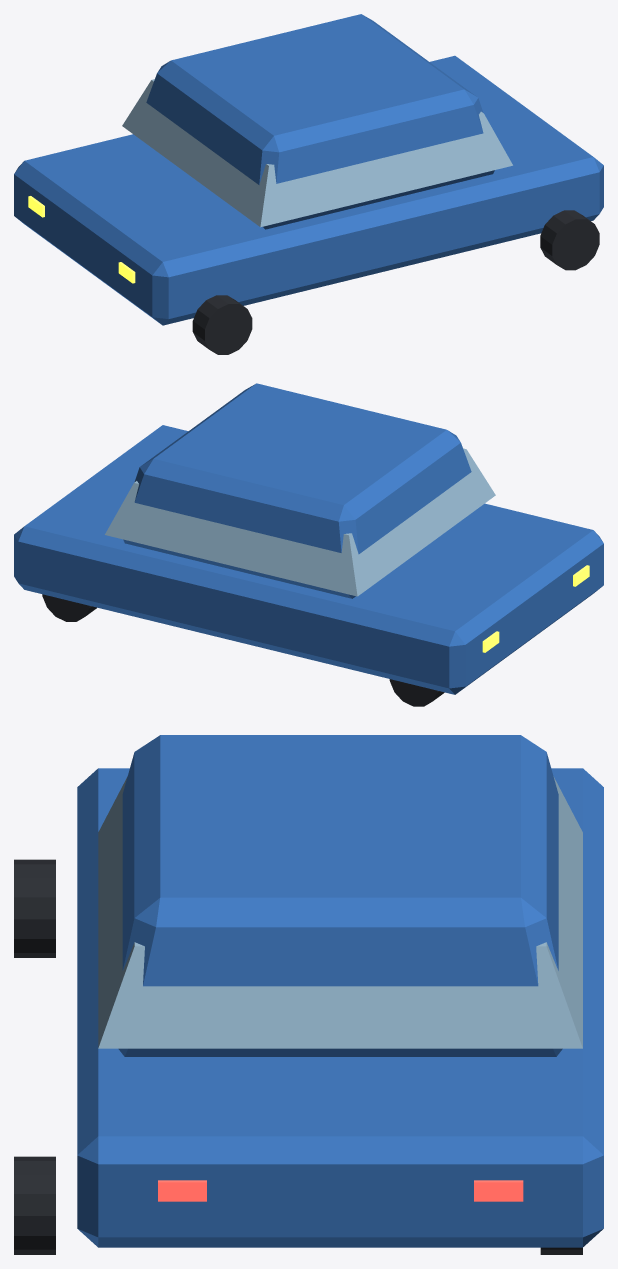
File: car_long_blue.glb
The picture shows the model from 3 angles, top to bottom: view 1: azimuth 30°, elevation 25°; view 2: azimuth 150°, elevation 25°; view 3: azimuth 270°, elevation 25°; orthographic projection. The views are drawn at different scales.
Visible parts, largest first — view 1: car_long_blue_mesh; view 2: car_long_blue_mesh; view 3: car_long_blue_mesh.
Part boxes in pixels (x1,y1,x2,y2): car_long_blue_mesh: [14, 14, 603, 354]; car_long_blue_mesh: [14, 383, 603, 706]; car_long_blue_mesh: [14, 735, 603, 1254].
Bounding box in the file's own units: 2.63 × 0.92 × 1.68.
